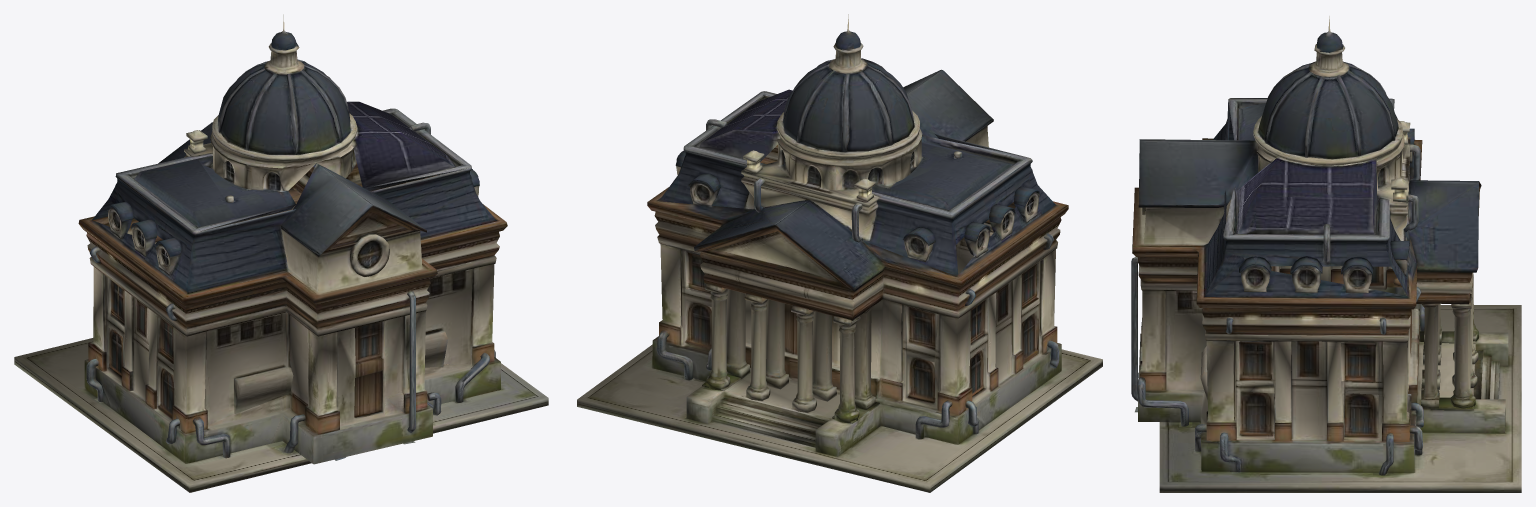
File: lm_hanoi_opera.glb
3 views of the same model, side by side, from view 1: azimuth 30°, elevation 25°; view 2: azimuth 150°, elevation 25°; view 3: azimuth 270°, elevation 25° (orthographic). The views are drawn at different scales.
Visible parts, largest first — view 1: Body; view 2: Body; view 3: Body.
Part boxes in pixels (x1=…): Body: x1=14, y1=14, x2=548, y2=492; Body: x1=577, y1=14, x2=1102, y2=492; Body: x1=1131, y1=16, x2=1521, y2=492.
Size of the model in its own units: 30 by 30 by 27.42.
Materials: 1 (1 with a texture image).
